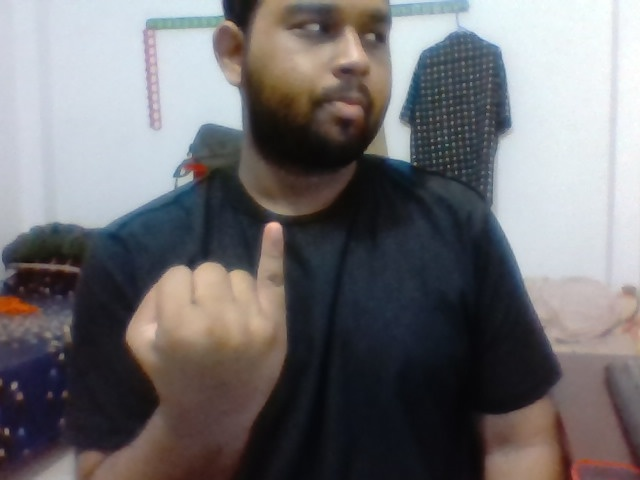I: (124, 212, 302, 409)
